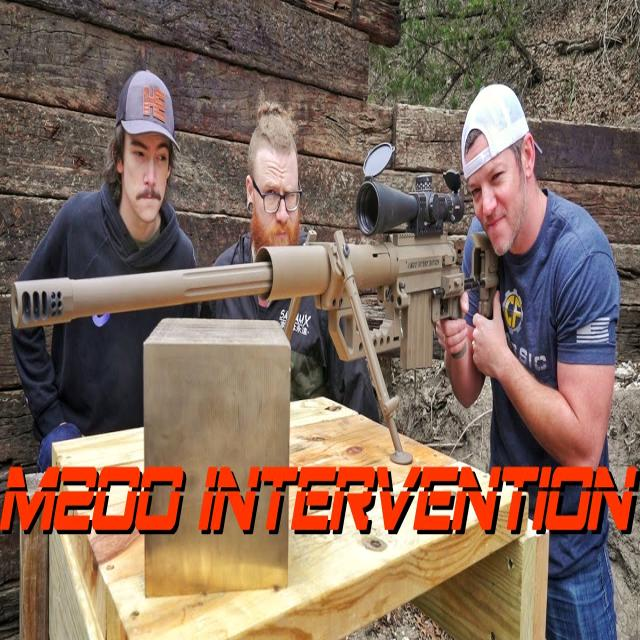rifle: (7, 180, 506, 380)
